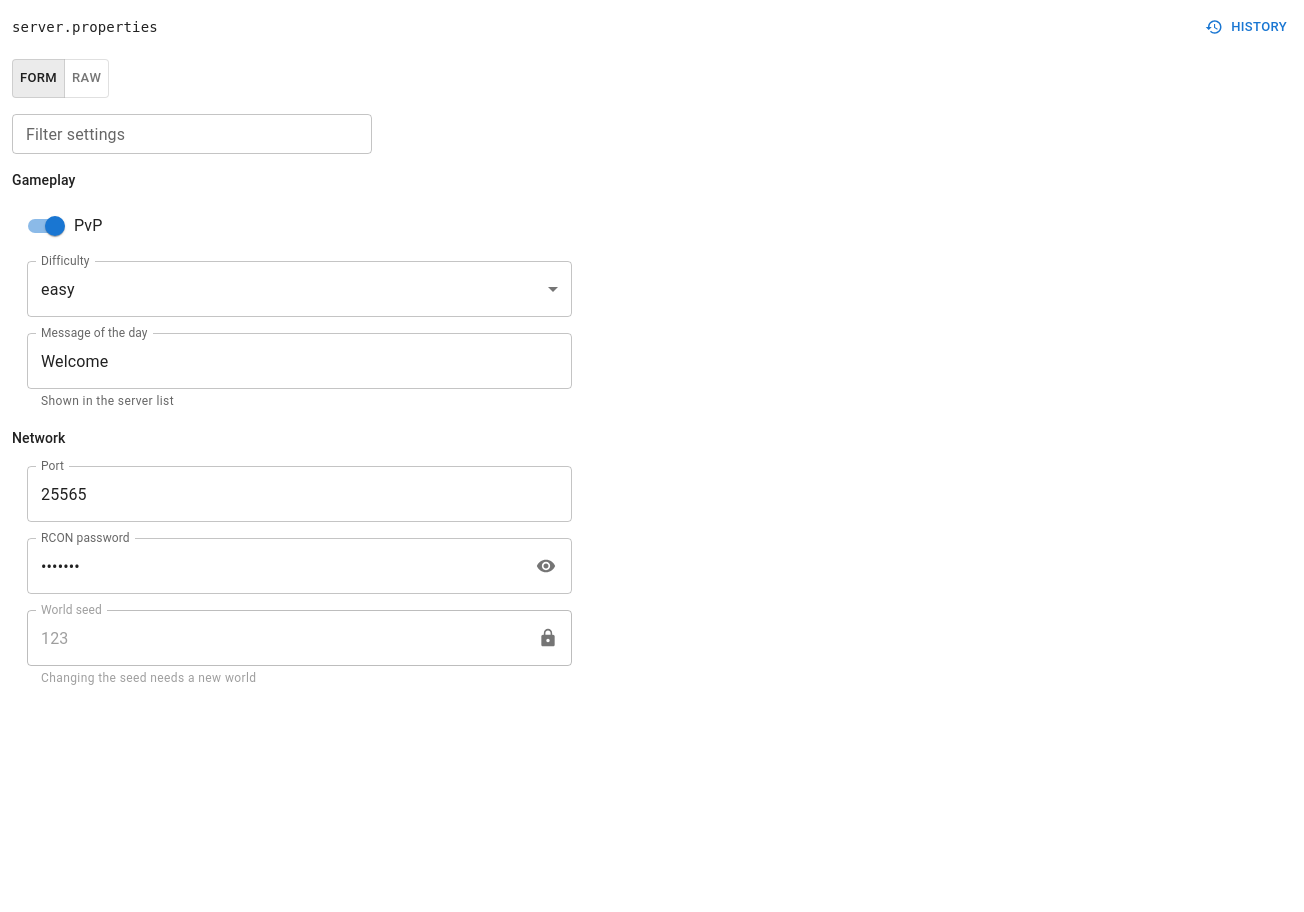
Test: RawSync › without form changes Raw shows file.raw directly and nothing is dirty
Expected: the switch labelled "PvP" is shown, top-left (28, 216), bottom-right (102, 236)
What coordinates should you click on to do the following:
click the button "Raw"
I would click on:
 (87, 78)
Its box is top-left (64, 59), bottom-right (109, 98).
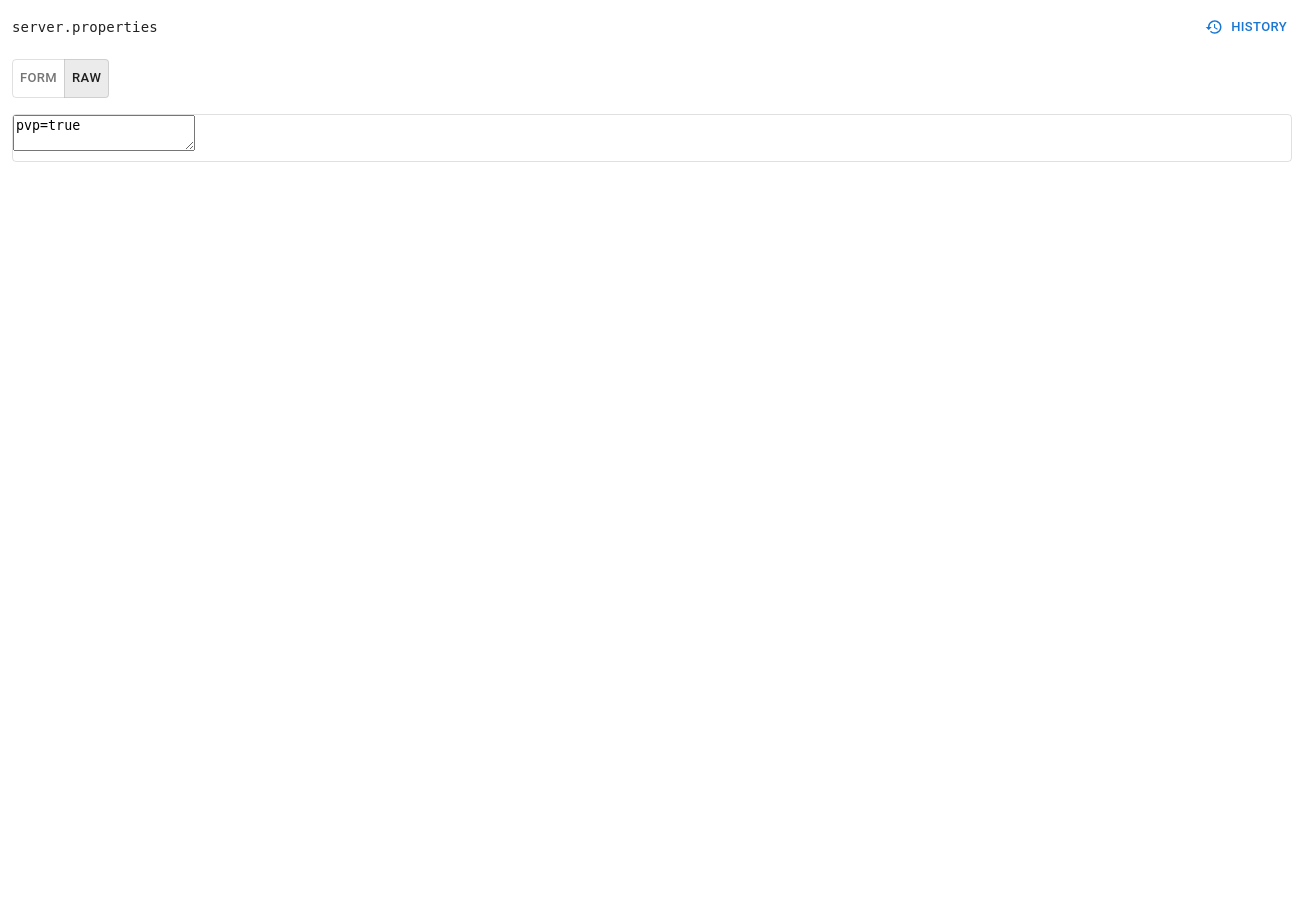
What coordinates should you click on to do the following:
click the button "Form"
I would click on:
 (39, 78)
Its box is top-left (12, 59), bottom-right (65, 98).
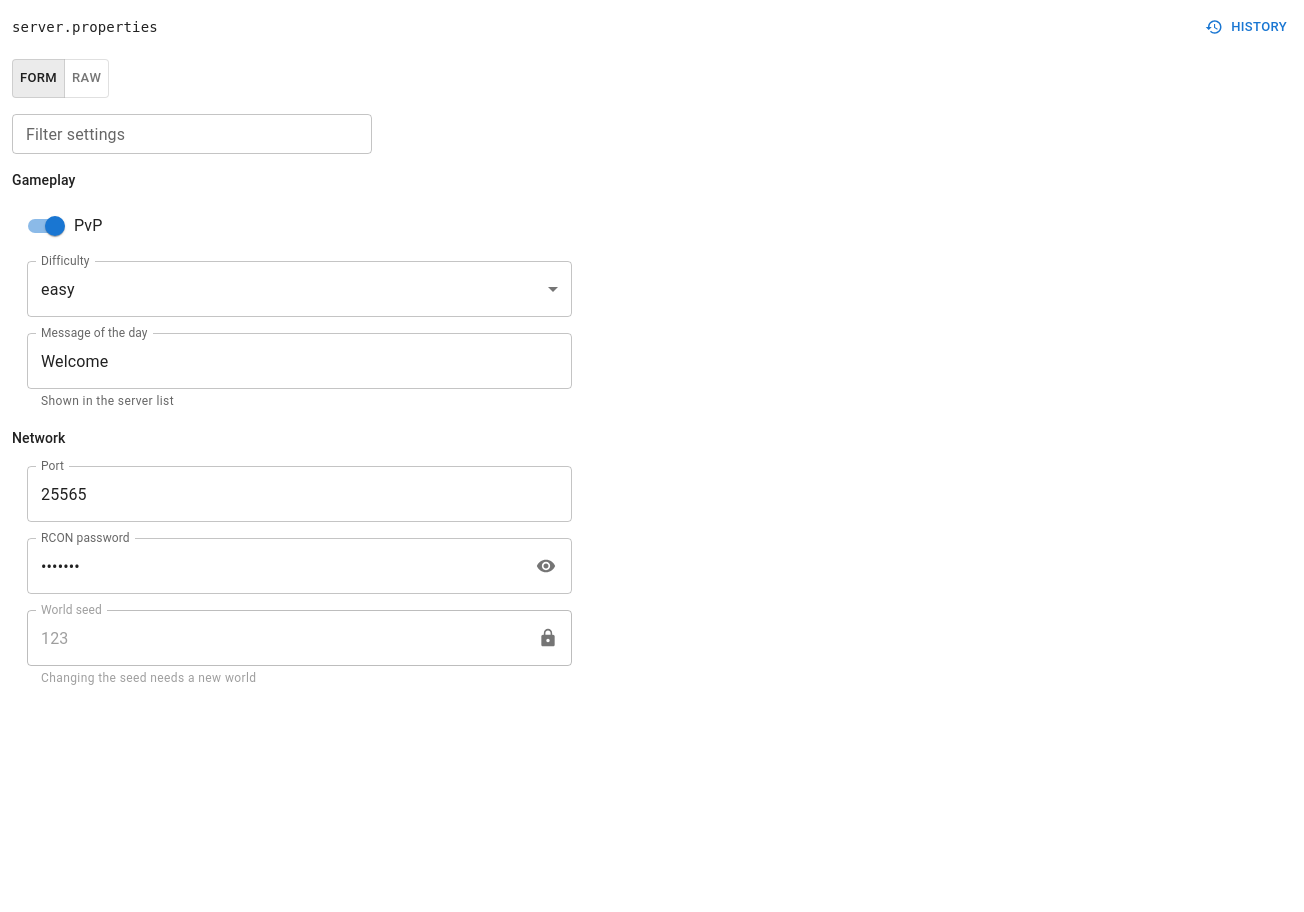
Expected: the switch labelled "PvP" is shown, top-left (28, 216), bottom-right (102, 236)
